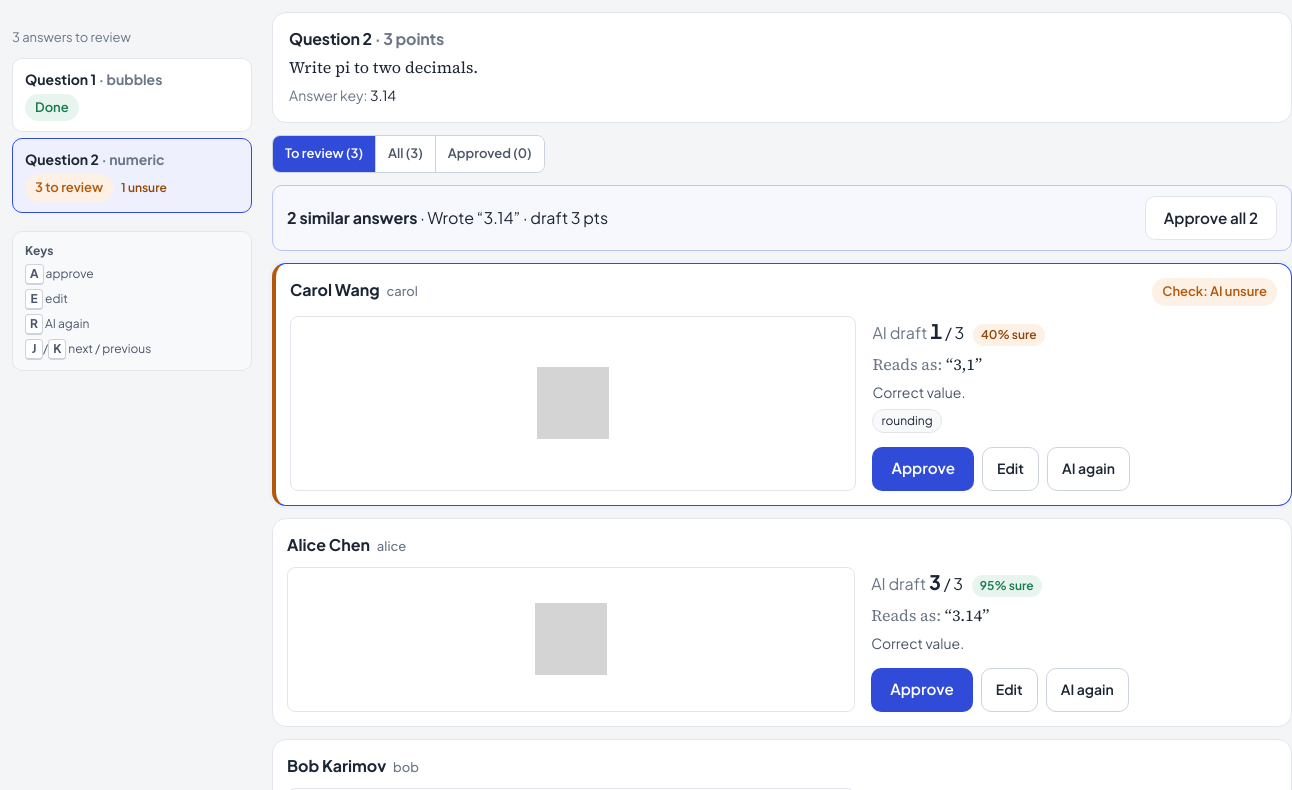
Test case: QueueStep › shows drafts, approves with A, moves with J and bulk-approves a group
The width and height of the screenshot is (1292, 790).
Expected: the text "Write pi to two decimals." is shown, top-left (289, 56), bottom-right (478, 78)
Expected: the text "Carol Wang" is shown, top-left (290, 279), bottom-right (380, 300)
Press a
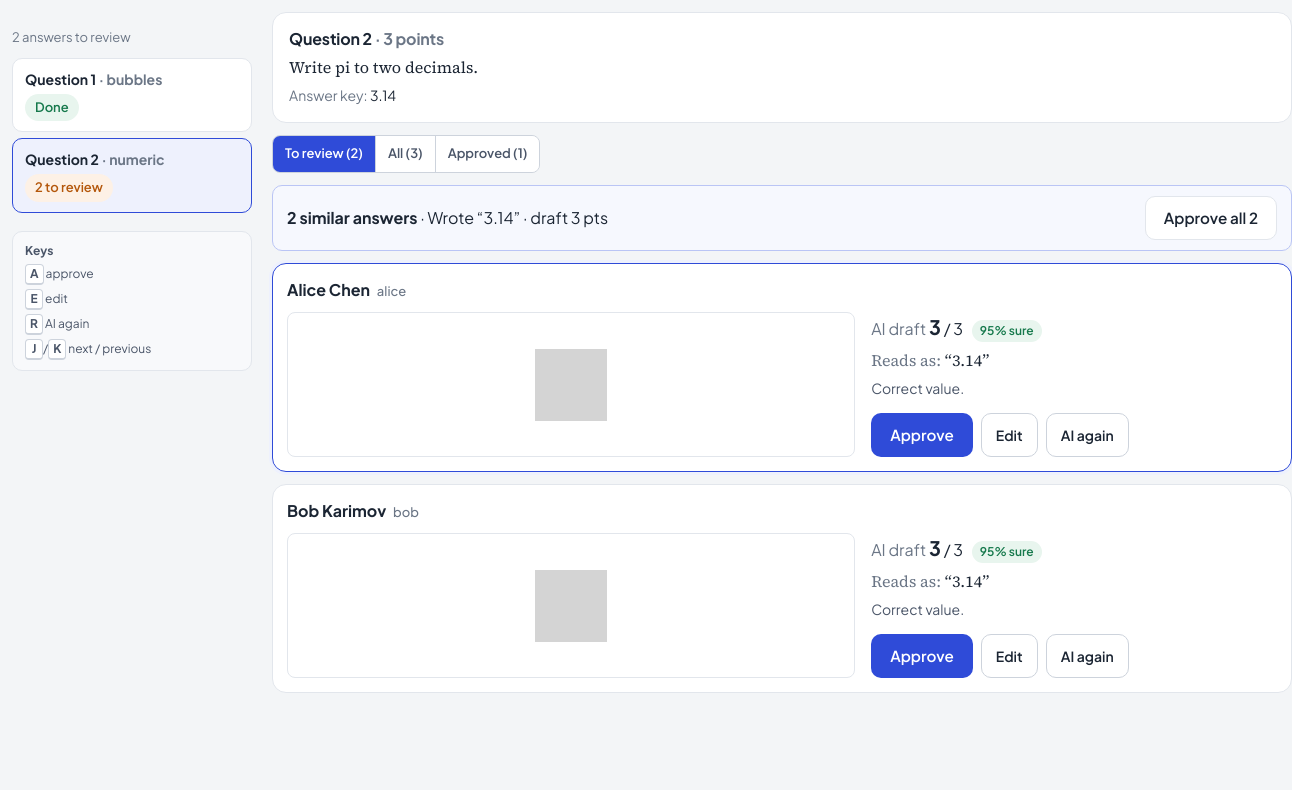
Expected: the text "Carol Wang" is gone
Press j
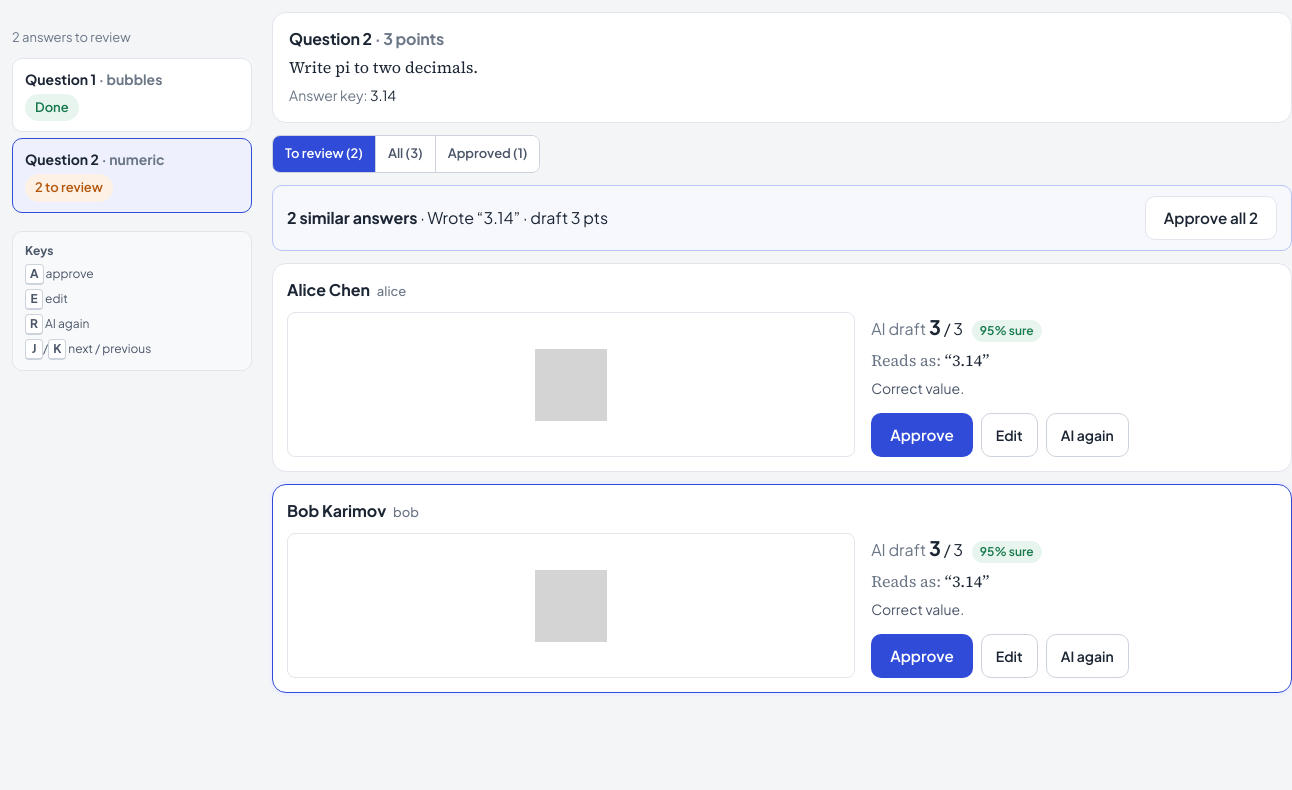
Expected: the list item that starts with "Bob Karimov" is shown, top-left (287, 500), bottom-right (386, 521)
Click the button "Approve all 2" at (1211, 218), box top-left (1145, 196), bottom-right (1277, 240)
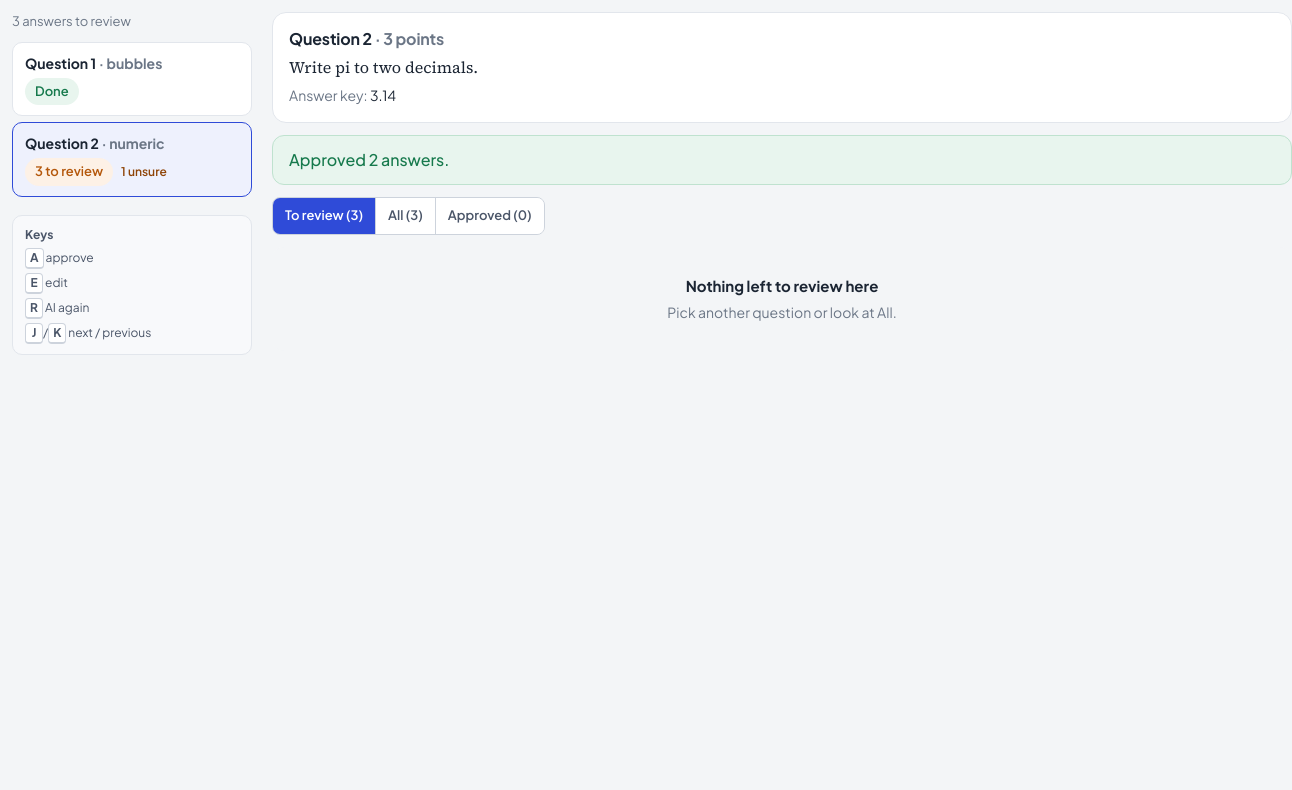
Expected: the text "Approved 2 answers." is shown, top-left (272, 135), bottom-right (1291, 185)
